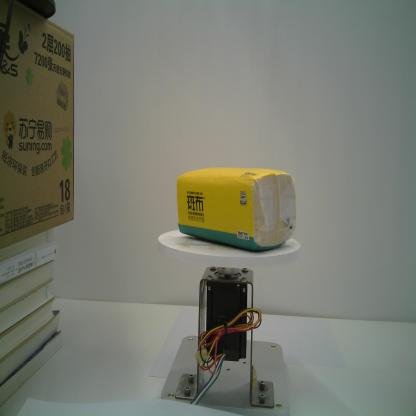Tissue: (175, 165, 298, 255)
